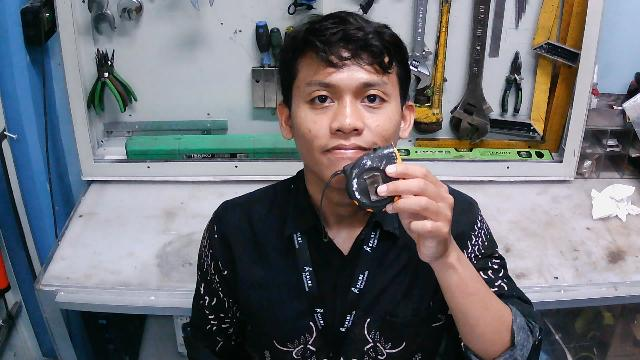meteran: (313, 140, 418, 243)
